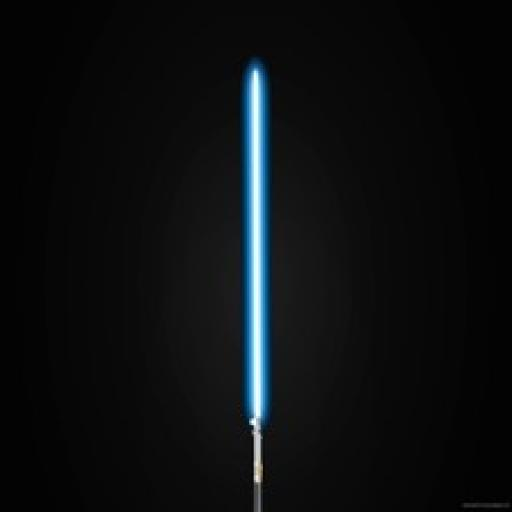lightsaber: (243, 60, 273, 512)
